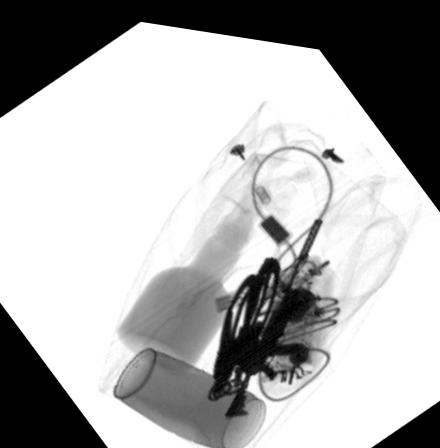Gun: (222, 206, 324, 409)
HandCuffs: (201, 246, 283, 394)
